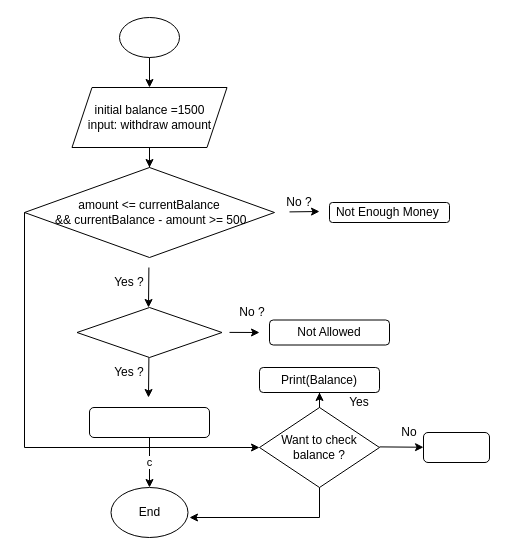
This 507x555 diagram has some shape labels left out. Here are the shapes that lost their labels. From the top down, the centre of each, then its label:
[149,37]: start
[149,332]: amount% 500 == 0 ?
[149,422]: withdraw Successfull
[456,447]: return
